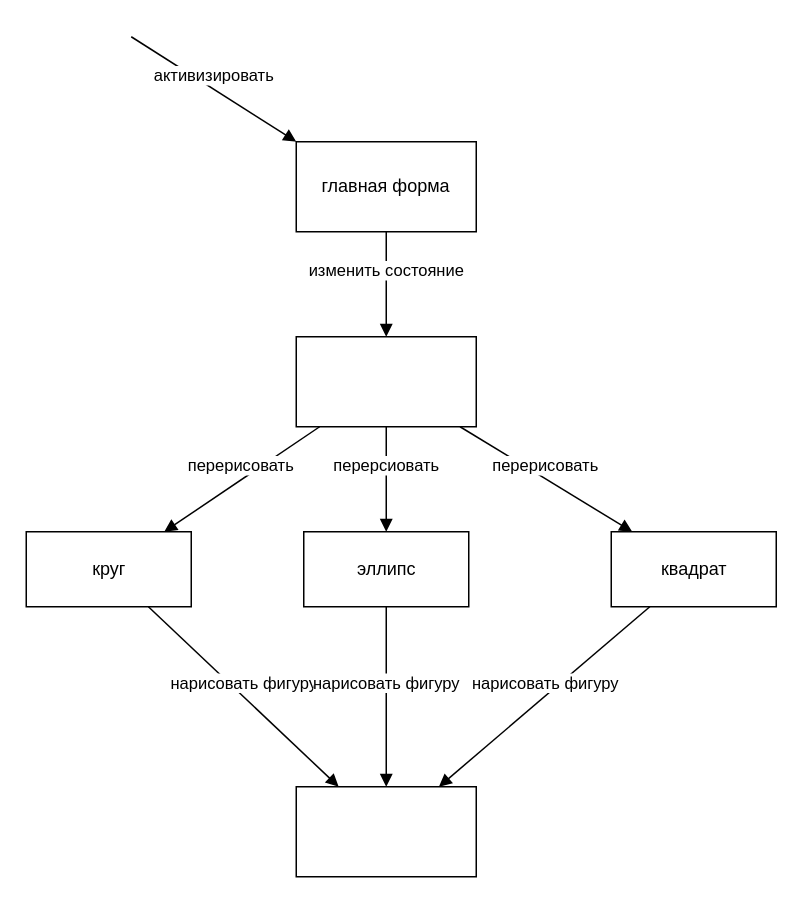
The diagram is 803 pixels wide and 903 high, and some of its shapes have lost their labels. Each missing label, with the centre of its shape:
таймер: point 385,381
холст: point 385,831
